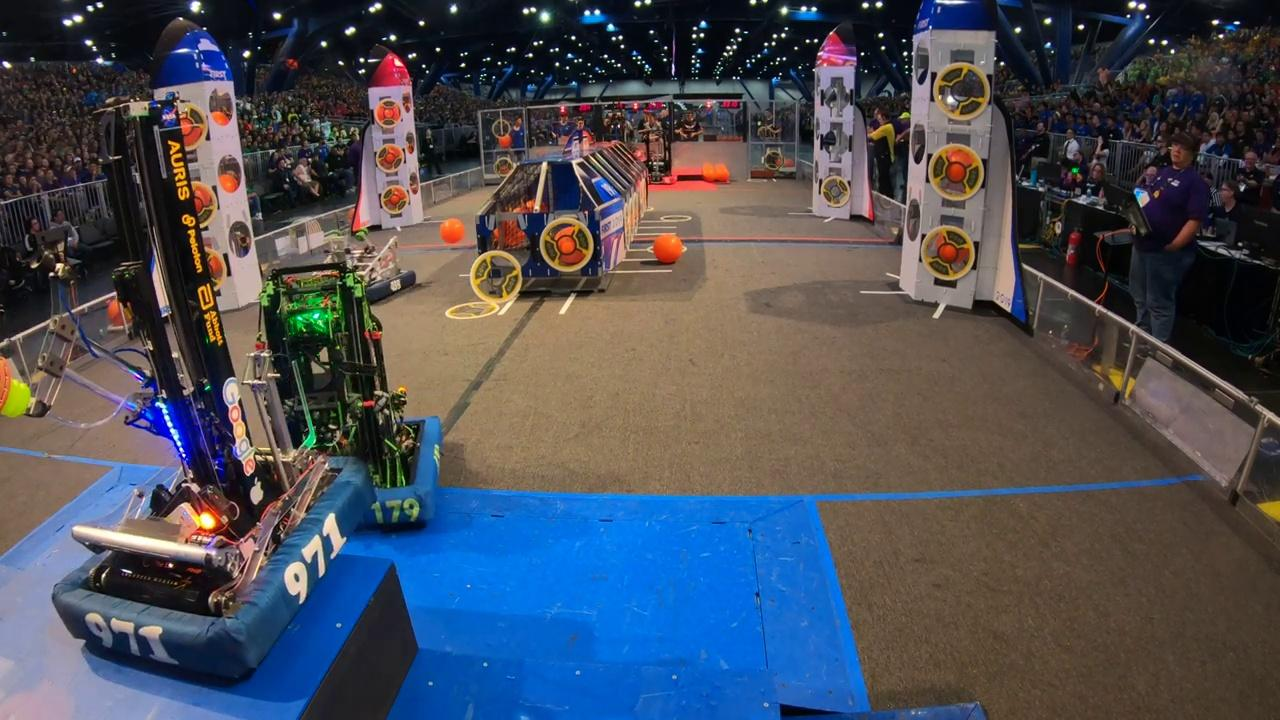robot: (4, 92, 371, 689), (226, 256, 442, 538), (309, 230, 422, 307), (636, 126, 680, 187)
